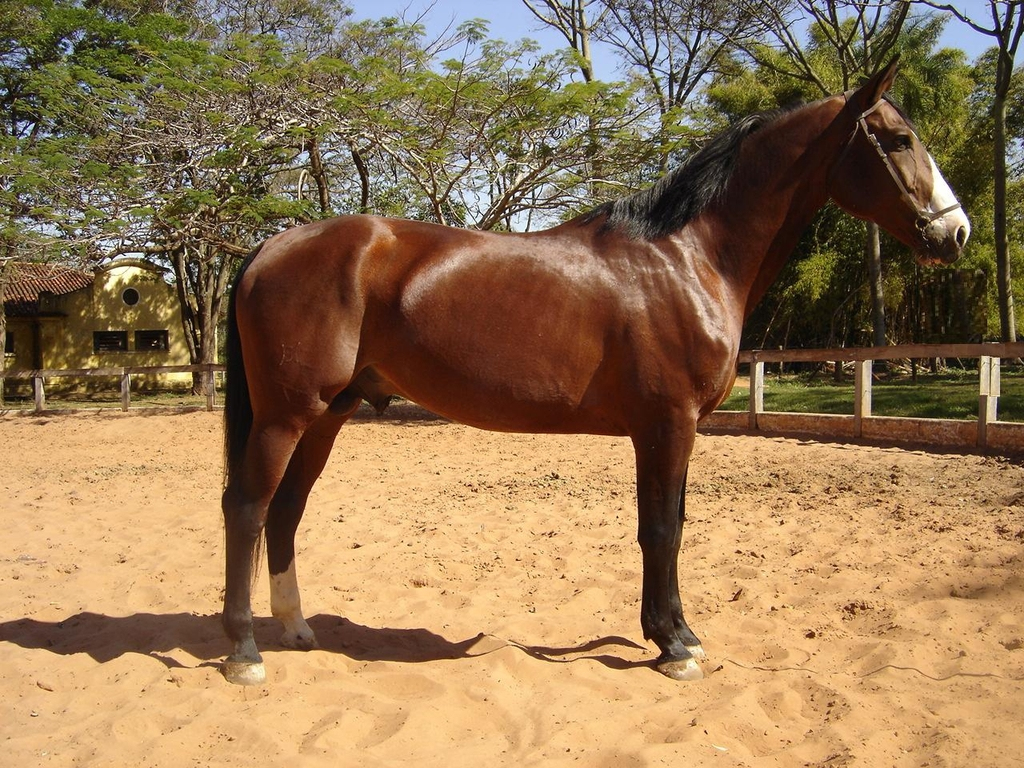horse: (215, 50, 972, 690)
